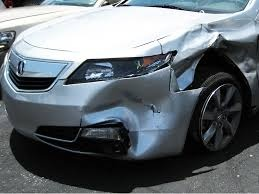Dent: (85, 78, 177, 155), (175, 24, 259, 78)
